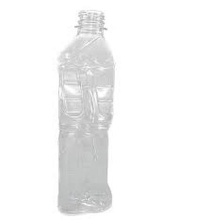bottle: (56, 8, 117, 216)
